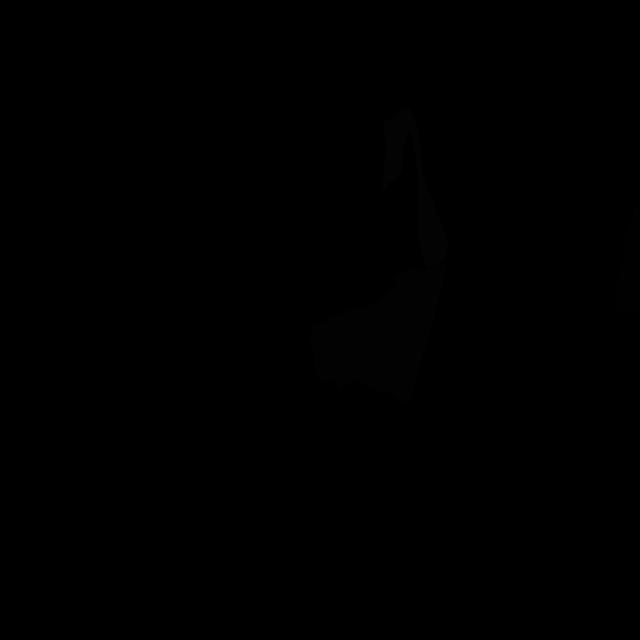cardboard: (310, 263, 447, 403)
metal: (382, 108, 449, 268)
rigid_plastic: (615, 196, 640, 315)
